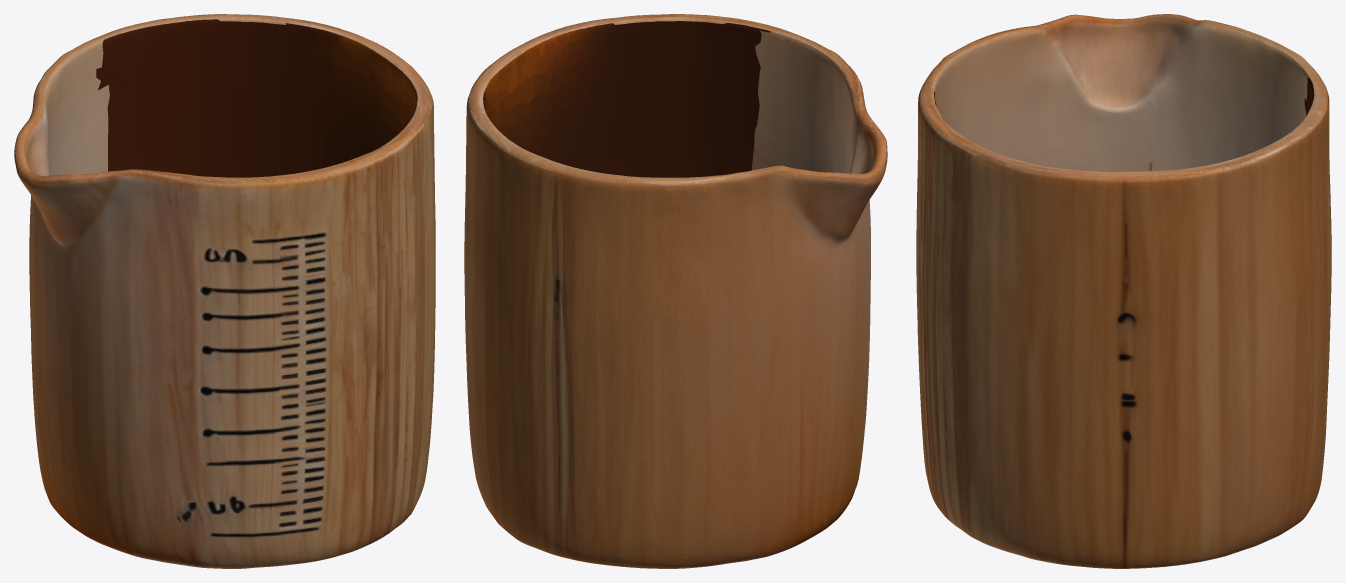
3 views of the same model, side by side, from view 1: azimuth 30°, elevation 25°; view 2: azimuth 150°, elevation 25°; view 3: azimuth 270°, elevation 25° (orthographic).
Parts seen in each view (by area): view 1: tmpe_pgt4vy.ply; view 2: tmpe_pgt4vy.ply; view 3: tmpe_pgt4vy.ply.
Part boxes in pixels (x1=…): tmpe_pgt4vy.ply: x1=14, y1=14, x2=435, y2=568; tmpe_pgt4vy.ply: x1=464, y1=14, x2=887, y2=568; tmpe_pgt4vy.ply: x1=916, y1=14, x2=1331, y2=568.
Bounding box in the file's own units: 1.99 × 1.98 × 1.86.
1 material, 1 textured.
